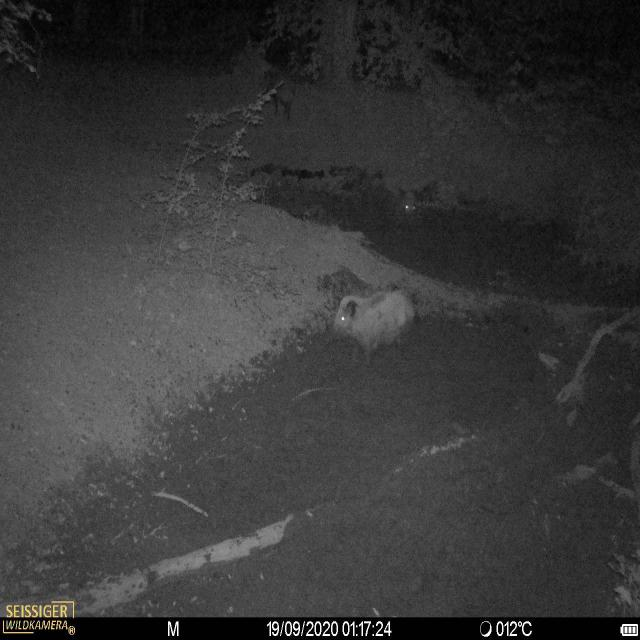wild boar: (329, 282, 419, 369)
